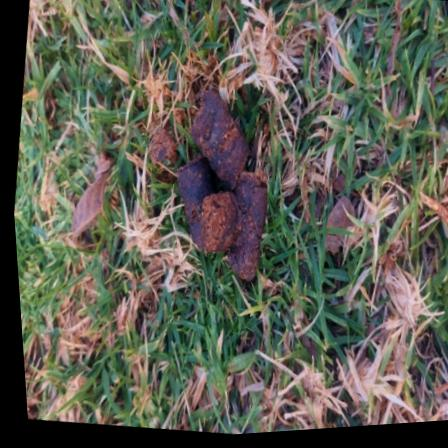dog-poop: (117, 66, 291, 298)
